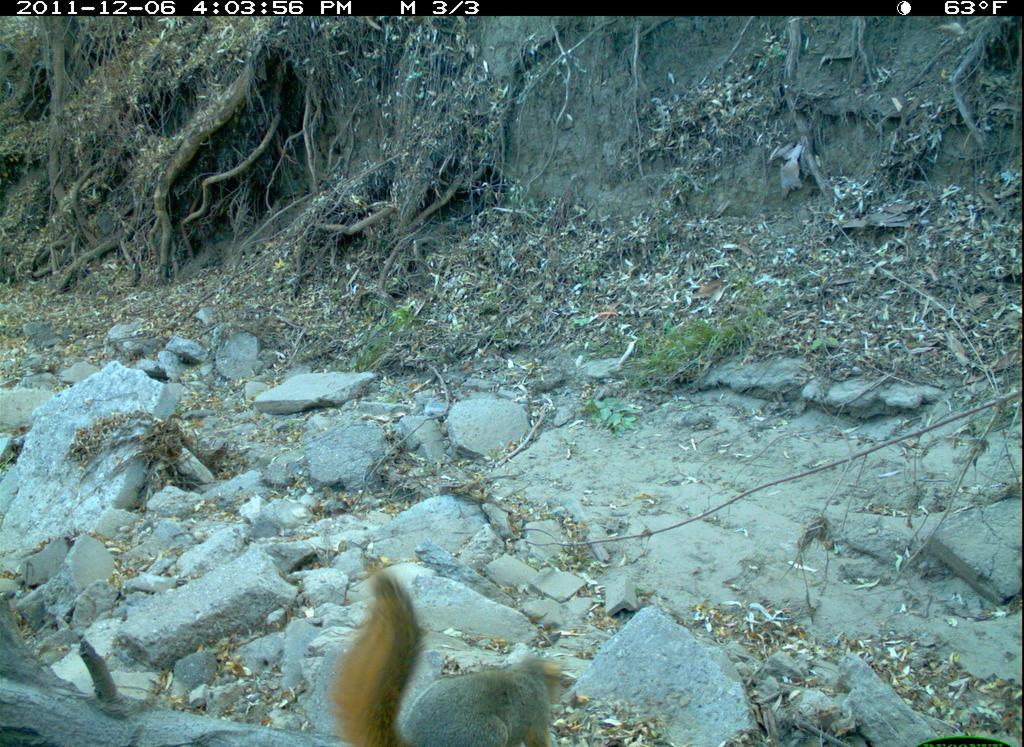squirrel: (329, 551, 598, 747)
